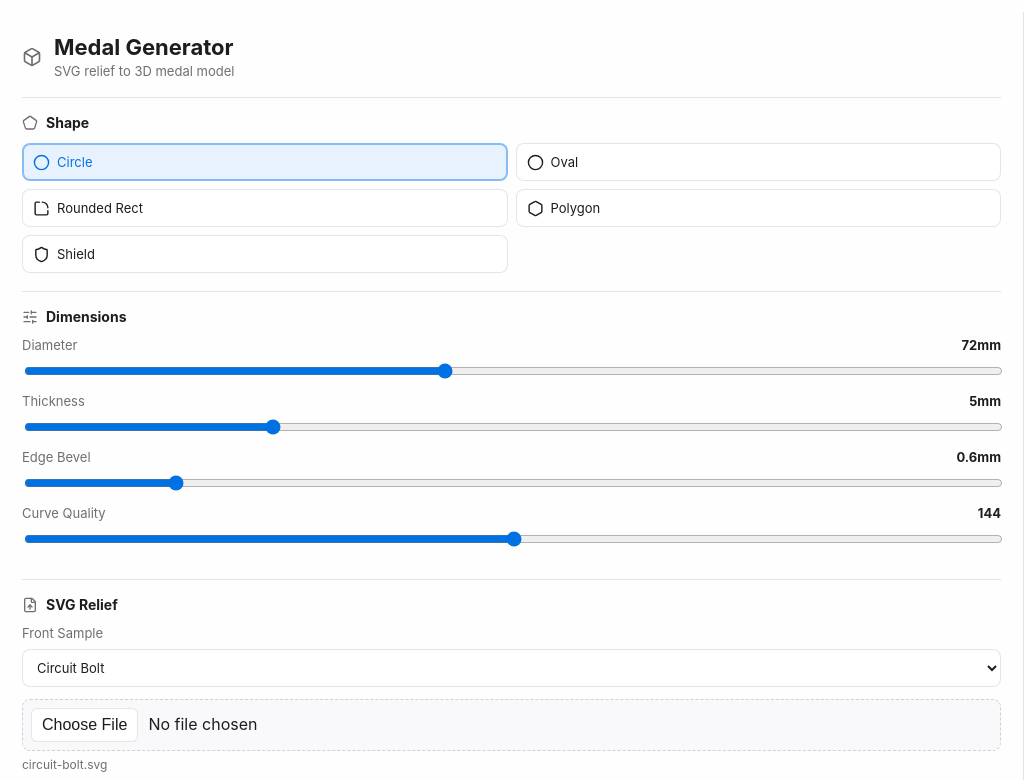
ControlPanel › can choose built-in SVG samples
Select "Apple Logo" in the dropdown labelled "Front Sample": (512, 668) [22,649,1001,687]
(page scrolled)
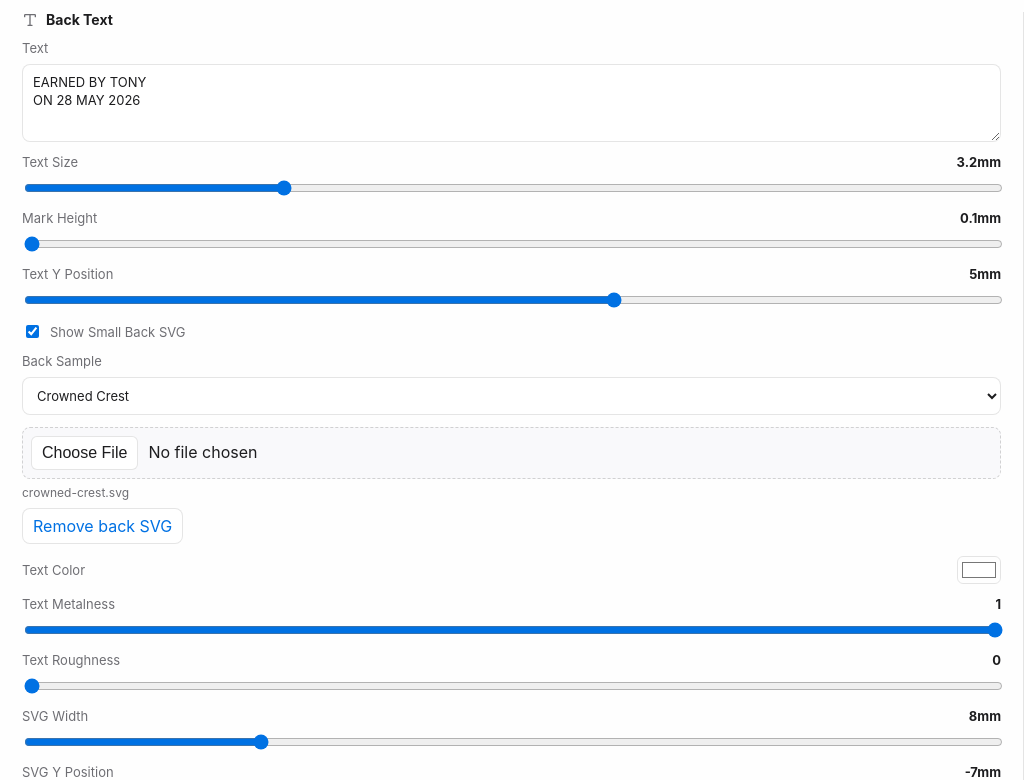
Select "Compass Rose" in the dropdown labelled "Back Sample": (512, 396) [22,377,1001,415]
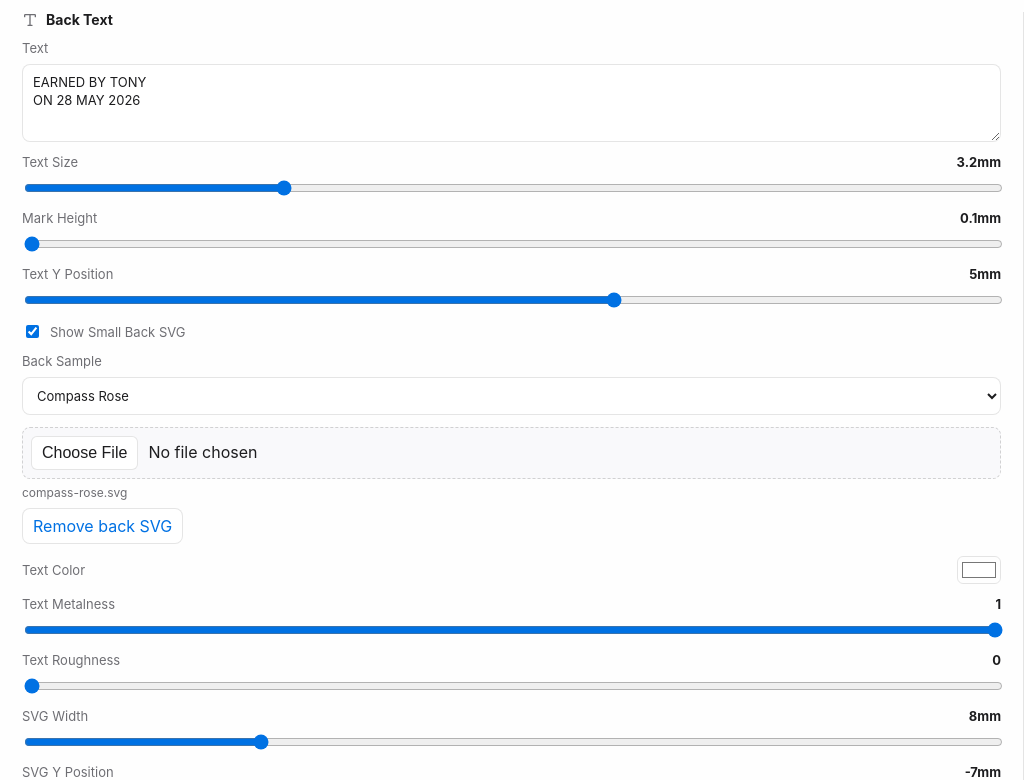
Check: the text "compass-rose.svg" is shown, box [22,485,128,500]
